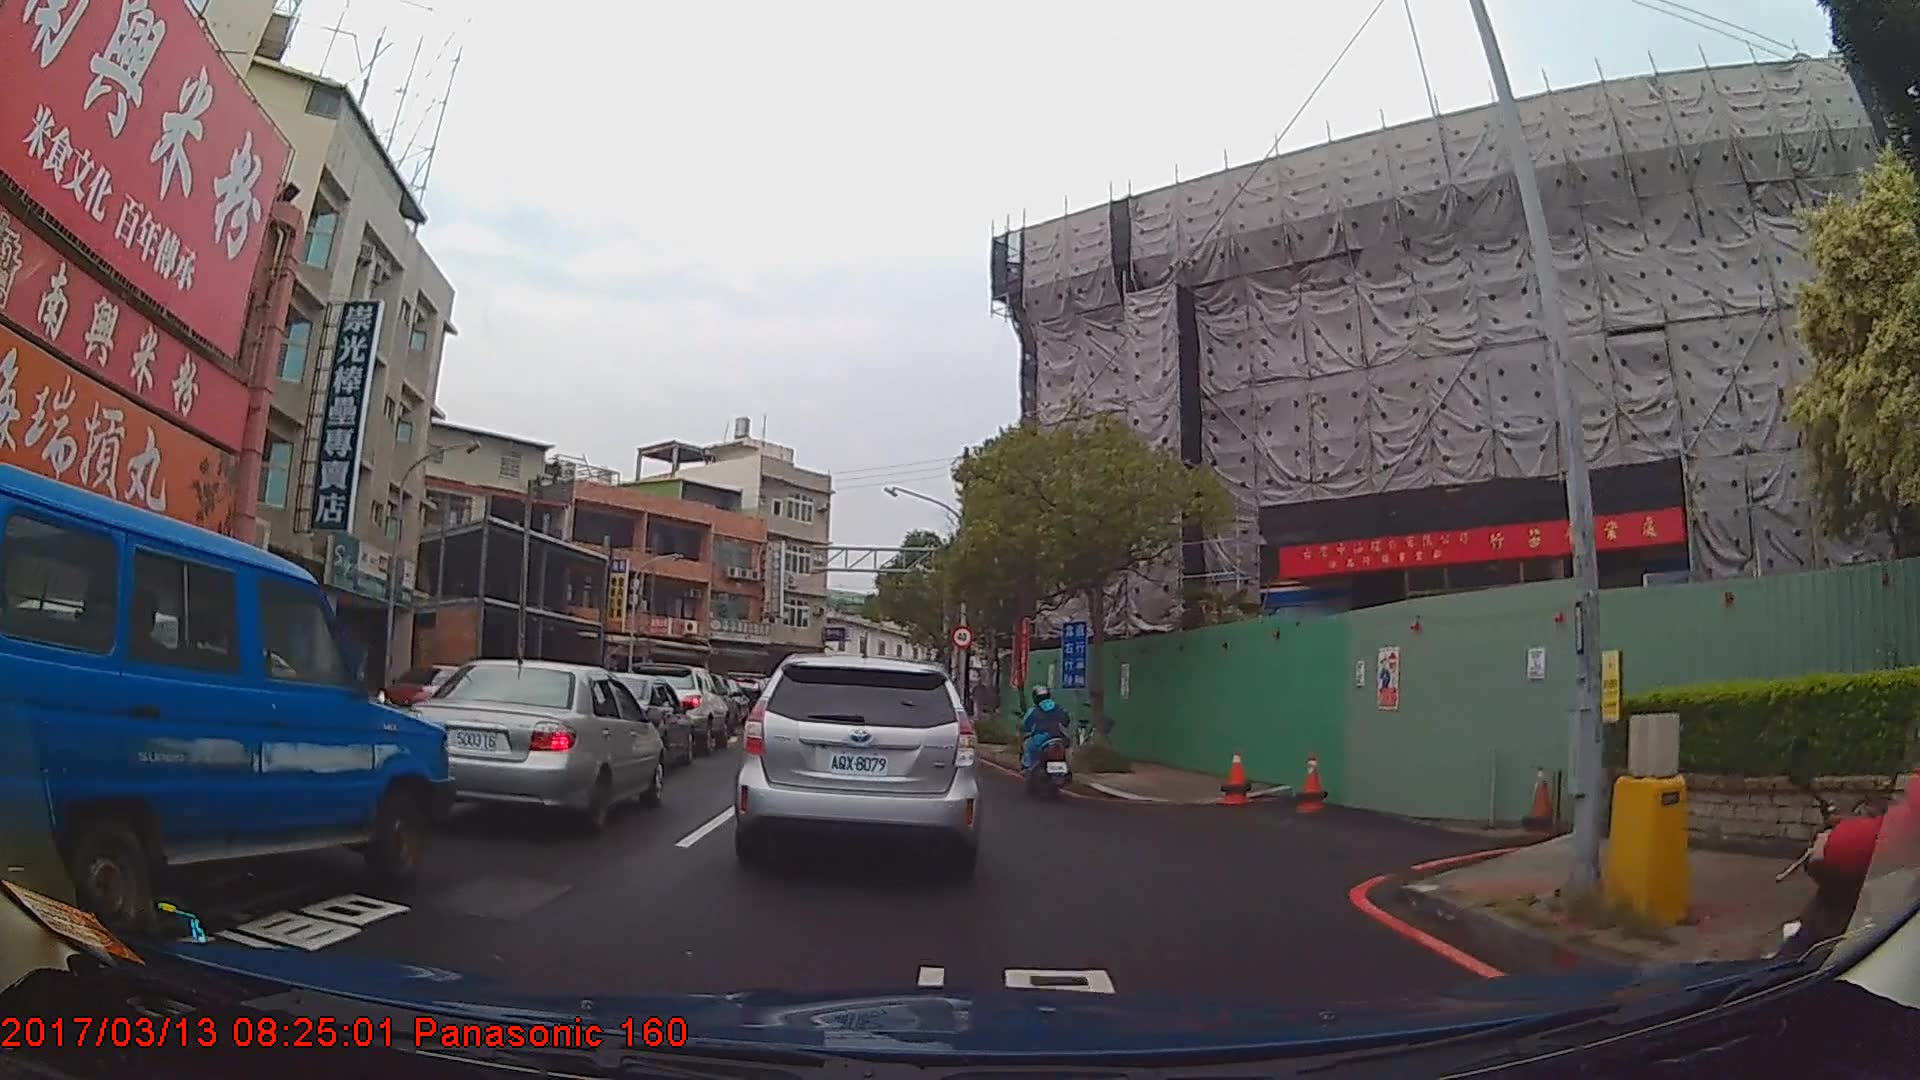rider: (1777, 495, 1920, 1080), (1019, 687, 1074, 800)
vehicle: (0, 467, 454, 937), (734, 650, 986, 867), (402, 658, 669, 835), (554, 668, 695, 767), (622, 660, 729, 753)
